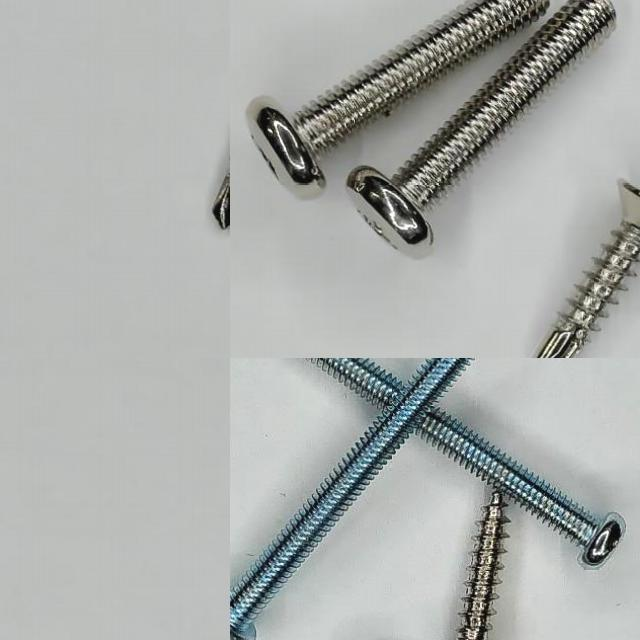Screw: (347, 0, 616, 257), (230, 358, 474, 640), (246, 0, 549, 196), (418, 407, 625, 566), (536, 179, 640, 358), (459, 491, 509, 640), (305, 358, 403, 408)
